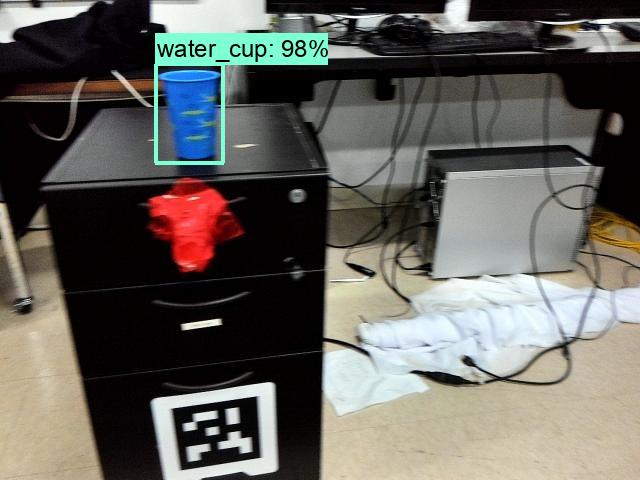water_cup: (155, 65, 219, 164)
